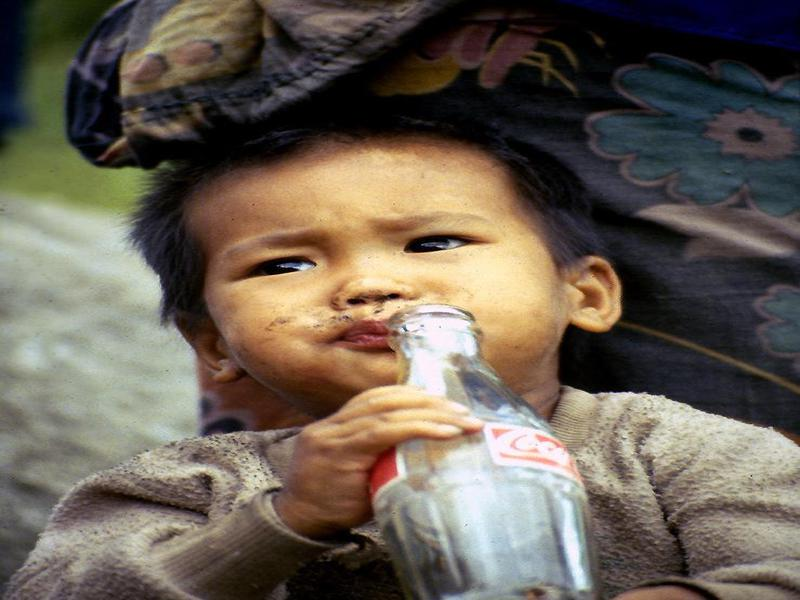person: (1, 107, 800, 599)
